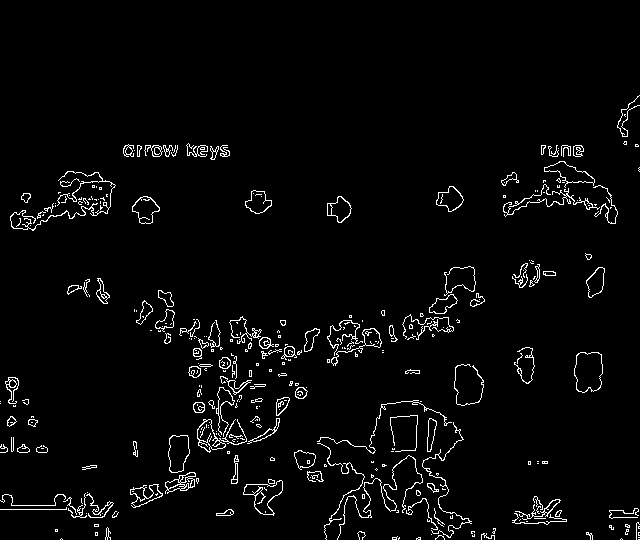down: (235, 179, 279, 225)
right: (429, 178, 471, 221), (317, 190, 360, 231)
up: (127, 188, 169, 234)
